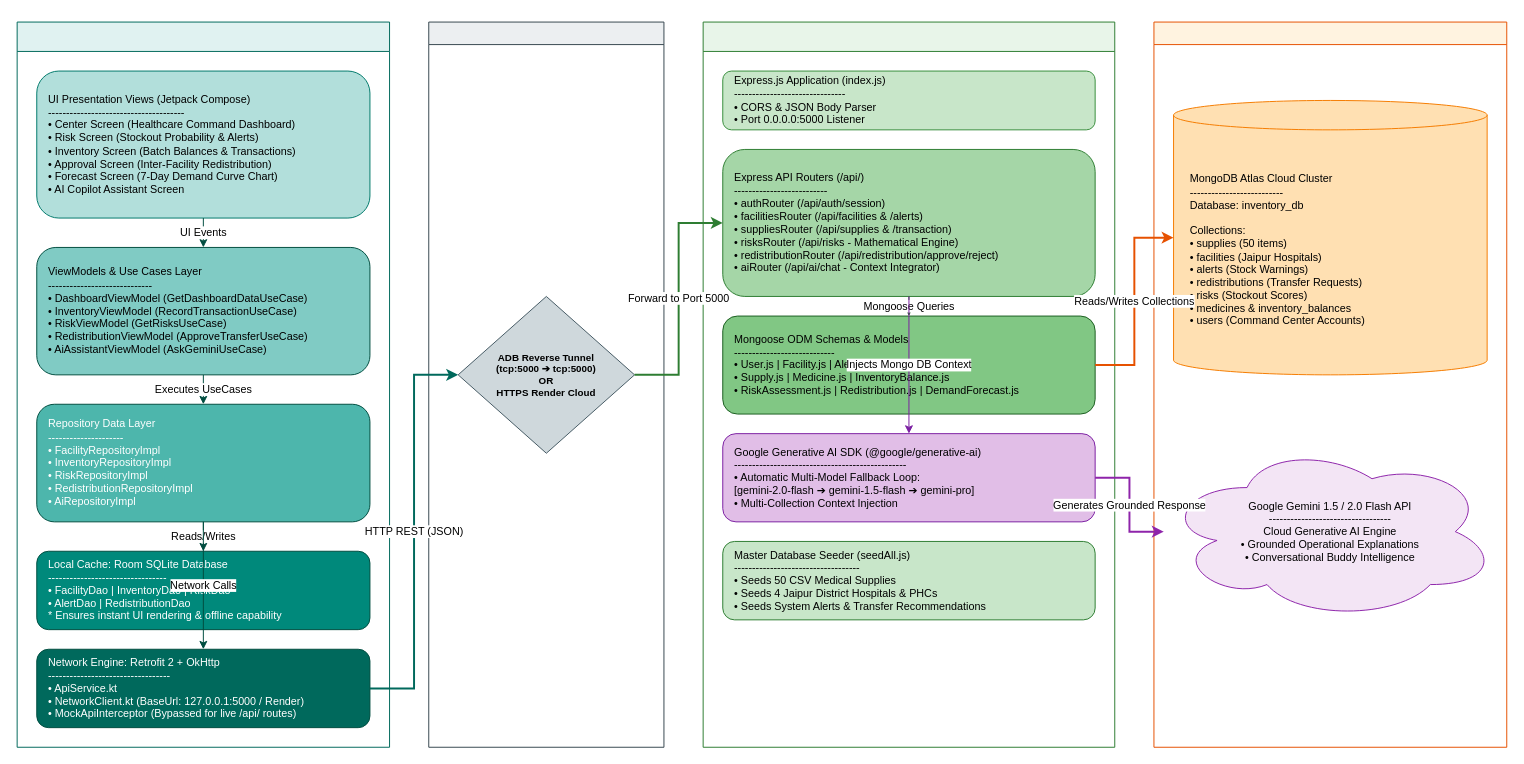
Image size: 1524x764. Some labels were removed from this diagram. The box of each missing label's shape, as (x1, y1, x2, y2) in pixels:
ANDROID CLIENT LAYER (Kotlin + Jetpack Compose): (16, 21, 390, 747)
CLOUD DATABASE & AI INTELLIGENCE LAYER: (1153, 21, 1507, 747)
NETWORK & API TRANSPORT LAYER: (428, 21, 664, 747)
NODE.JS & EXPRESS BACKEND SERVER (Port 5000 / Render): (702, 21, 1115, 747)
